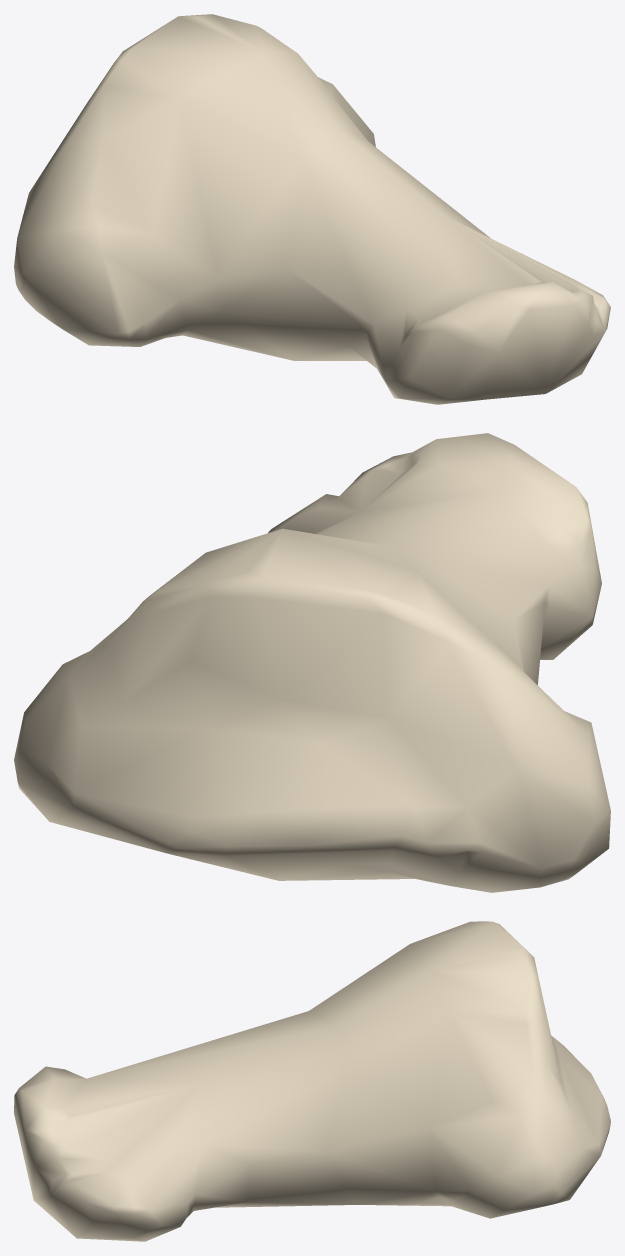
The model's file is distal-phalanx-of-first-finger-of-foot-l.glb.
3 renders of one model, top to bottom at view 1: azimuth 30°, elevation 25°; view 2: azimuth 150°, elevation 25°; view 3: azimuth 270°, elevation 25°, orthographic. The views are drawn at different scales.
Parts seen in each view (by area): view 1: Distal phalanx of first finger of foot.l; view 2: Distal phalanx of first finger of foot.l; view 3: Distal phalanx of first finger of foot.l.
Part boxes in pixels (x1,y1,x2,y2): Distal phalanx of first finger of foot.l: [14, 14, 610, 404]; Distal phalanx of first finger of foot.l: [14, 433, 610, 892]; Distal phalanx of first finger of foot.l: [14, 921, 610, 1241].
Size of the model in its own units: 0.0207 by 0.0115 by 0.0269.
